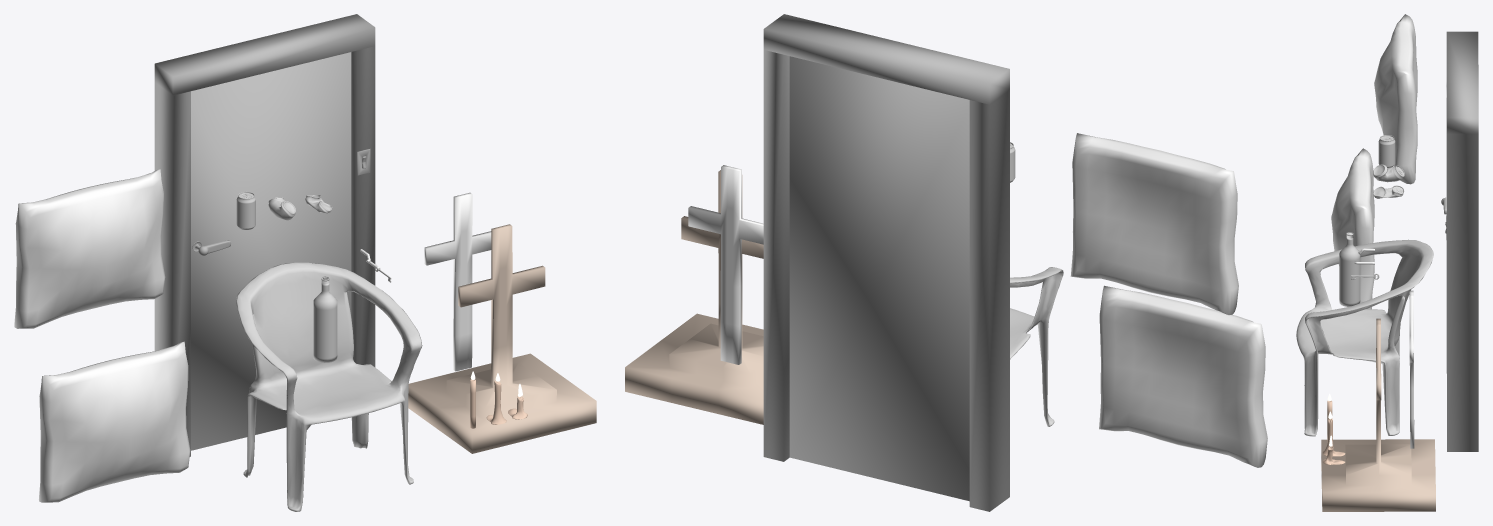
Rendered from utilities.fbx.
The picture shows the model from 3 angles, left to right: view 1: azimuth 30°, elevation 25°; view 2: azimuth 150°, elevation 25°; view 3: azimuth 270°, elevation 25°; orthographic projection. The views are drawn at different scales.
Visible parts, largest first — view 1: door, plastic_chair, pillow2, pillow1, cross_w_support, cross, wine, refri; view 2: door, pillow2, pillow1, cross_w_support, cross, plastic_chair; view 3: door, plastic_chair, cross_w_support, pillow1, pillow2, wine, cross, refri, refri-creased, refri_more_crreased, candle_melted.
Boxes of the visible parts, x1,y1,x2,y2 form: door: (154, 14, 375, 456); plastic_chair: (236, 262, 422, 511); pillow2: (38, 341, 190, 502); pillow1: (14, 169, 165, 328); cross_w_support: (408, 224, 596, 453); cross: (424, 192, 491, 371); wine: (313, 276, 337, 362); refri: (236, 191, 255, 229); door: (763, 14, 1009, 511); pillow2: (1099, 285, 1267, 467); pillow1: (1070, 133, 1238, 314); cross_w_support: (625, 170, 763, 424); cross: (688, 165, 763, 364); plastic_chair: (1010, 267, 1063, 426); door: (1441, 31, 1478, 451); plastic_chair: (1296, 239, 1433, 436); cross_w_support: (1321, 318, 1435, 511); pillow1: (1374, 14, 1417, 184); pillow2: (1331, 148, 1374, 309); wine: (1339, 232, 1360, 306); cross: (1409, 290, 1414, 448); refri: (1378, 135, 1395, 167); refri-creased: (1373, 164, 1404, 182); refri_more_crreased: (1373, 185, 1404, 198); candle_melted: (1323, 418, 1345, 456).
Size of the model in its own units: 6920 by 4802 by 2360.
